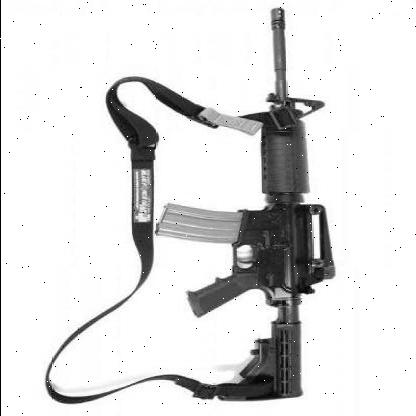rifle: (124, 7, 358, 405)
